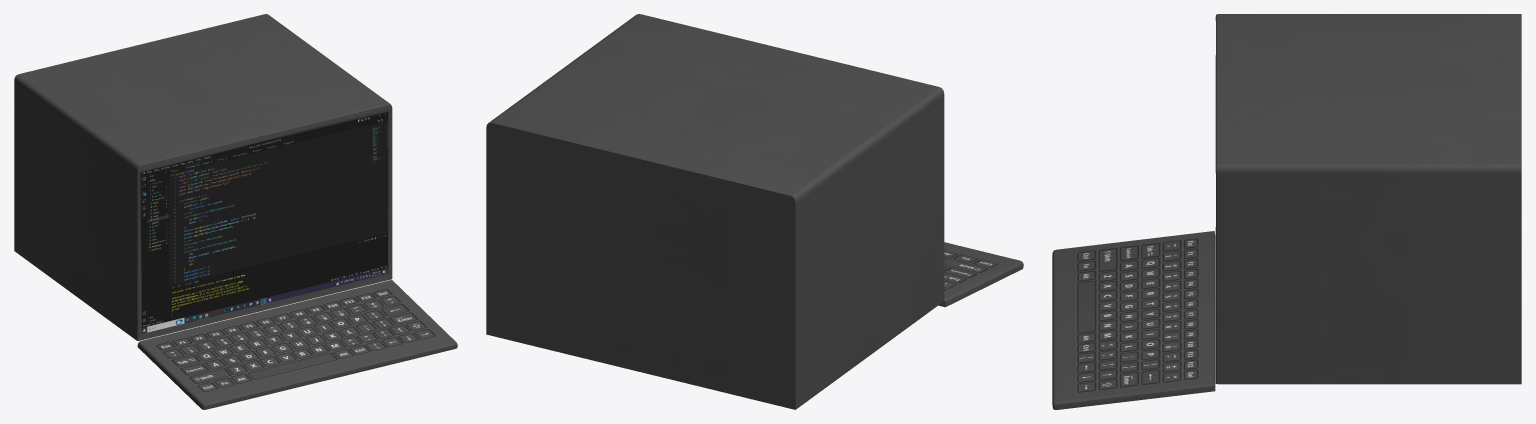
File: computer.glb
The picture shows the model from 3 angles, left to right: view 1: azimuth 30°, elevation 25°; view 2: azimuth 150°, elevation 25°; view 3: azimuth 270°, elevation 25°; orthographic projection. The views are drawn at different scales.
Parts seen in each view (by area): view 1: Object002; view 2: Object002; view 3: Object002.
Part boxes in pixels (x1,y1,x2,y2): Object002: (14,14,457,409); Object002: (486,14,1023,409); Object002: (1052,14,1521,409).
Bounding box in the file's own units: 139 × 103 × 179.
Materials: 2 (2 with a texture image).
